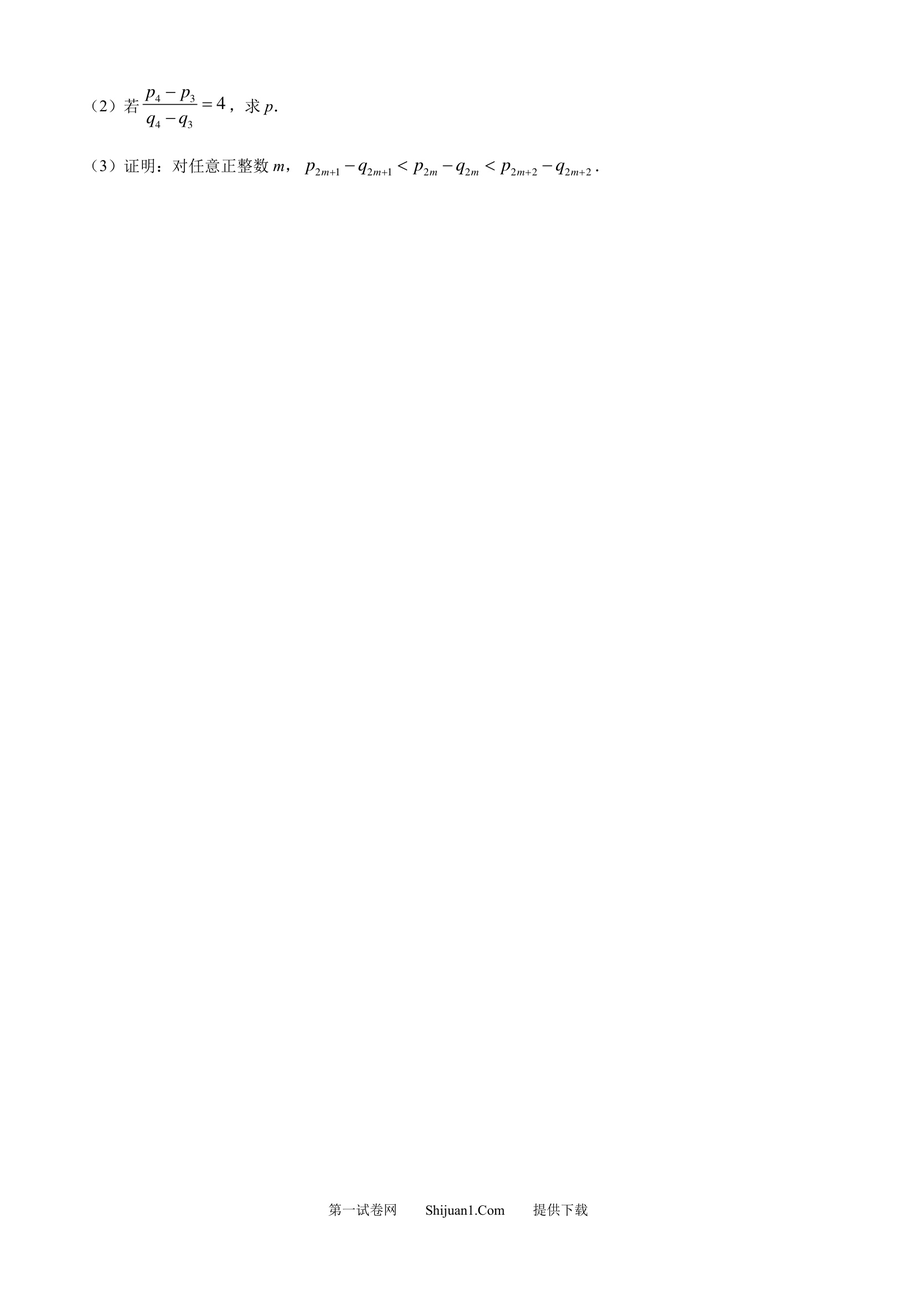question: (73, 73, 646, 208)
